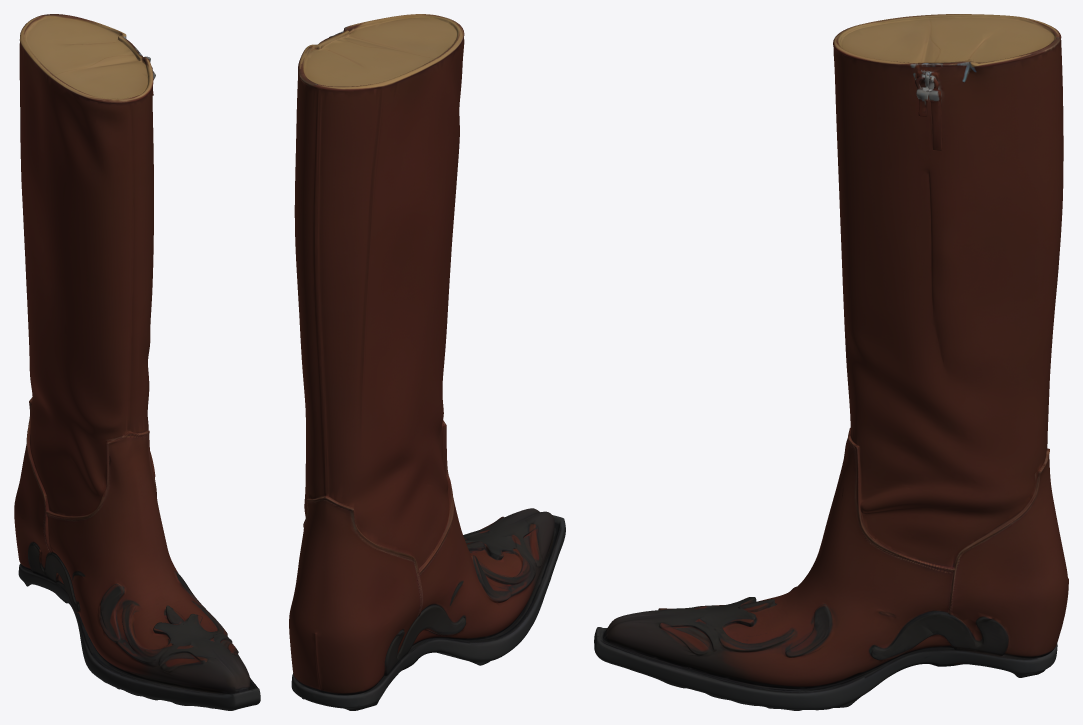
The model's file is heel-less-boot.glb.
The picture shows the model from 3 angles, left to right: view 1: azimuth 30°, elevation 25°; view 2: azimuth 150°, elevation 25°; view 3: azimuth 270°, elevation 25°; orthographic projection. The views are drawn at different scales.
Visible parts, largest first — view 1: node_0; view 2: node_0; view 3: node_0.
Part boxes in pixels (left/top/right/bottom): node_0: left=14, top=14, right=260, bottom=710; node_0: left=289, top=14, right=565, bottom=710; node_0: left=594, top=14, right=1068, bottom=710.
Bounding box in the file's own units: 0.2194 × 1.01 × 0.6739.
1 material, 1 textured.
